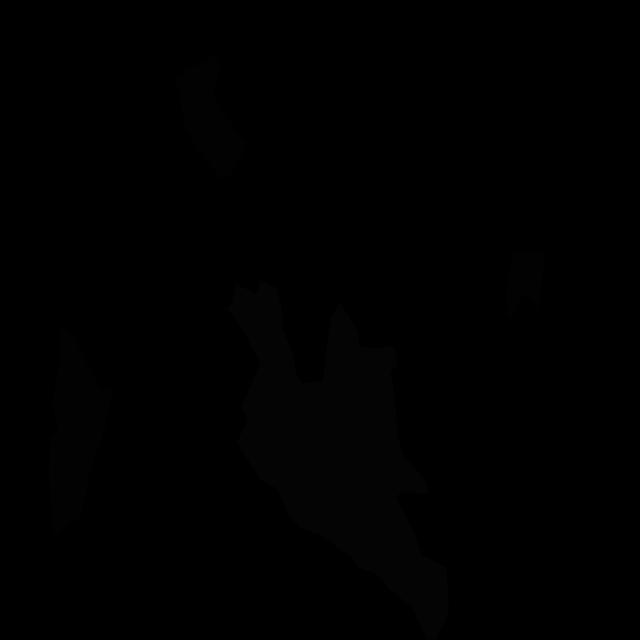cardboard: (48, 326, 114, 535), (176, 52, 248, 180), (506, 251, 545, 320)
soft_plastic: (227, 281, 449, 640)
